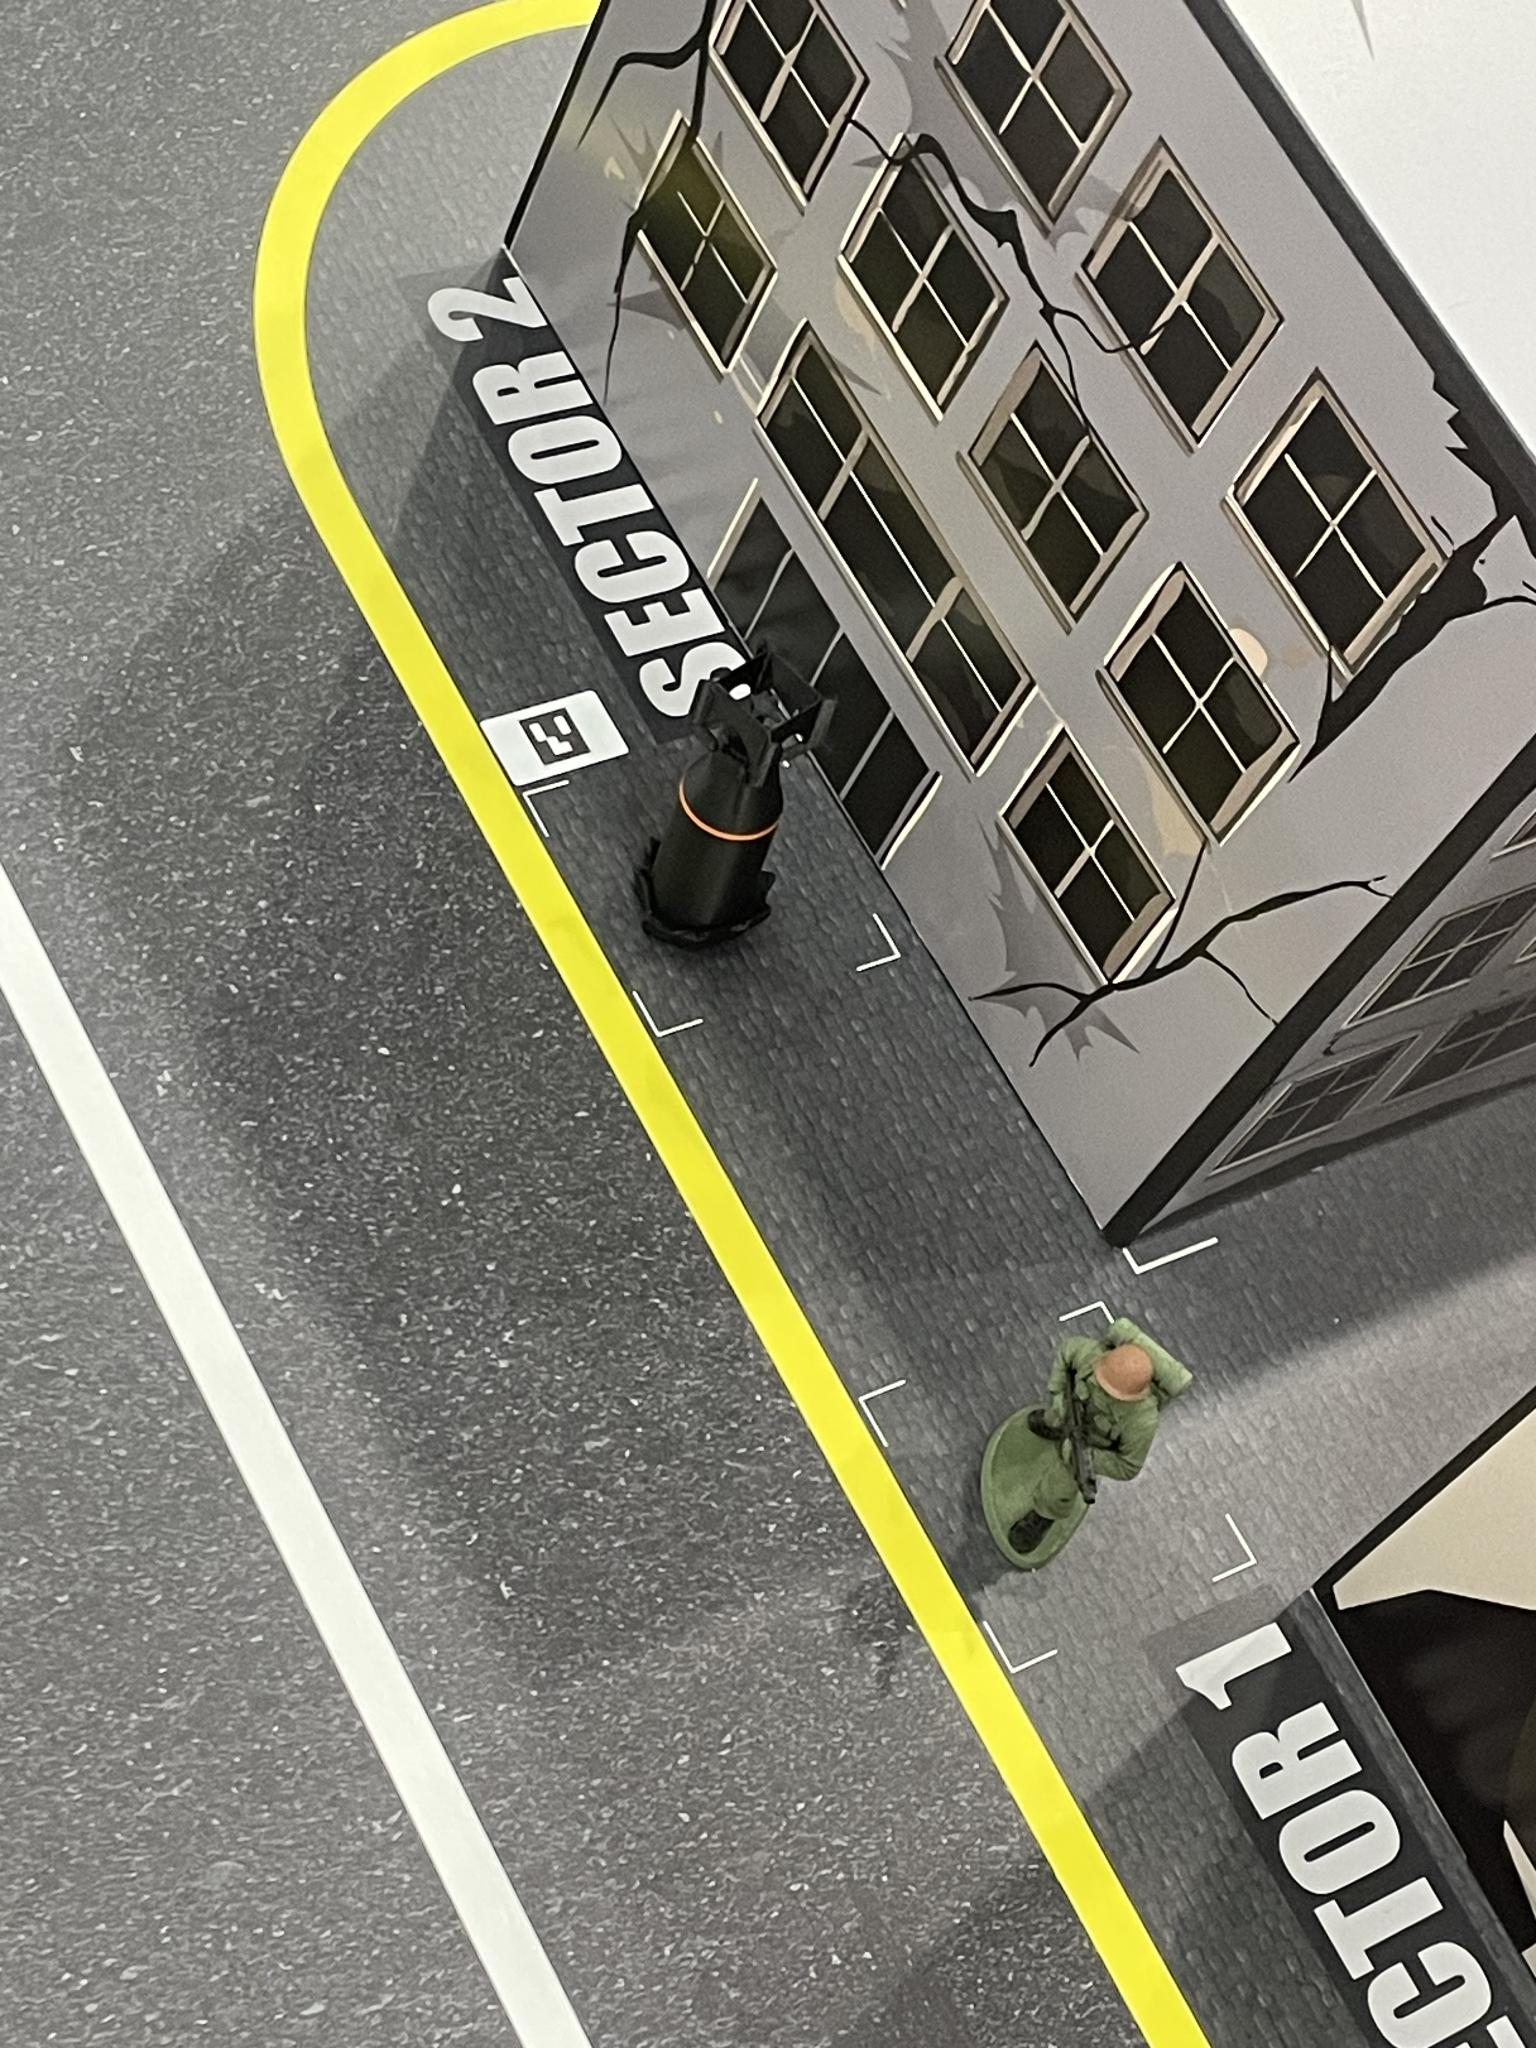Enemy: (983, 1300, 1191, 1567)
Missile: (642, 637, 831, 942)
